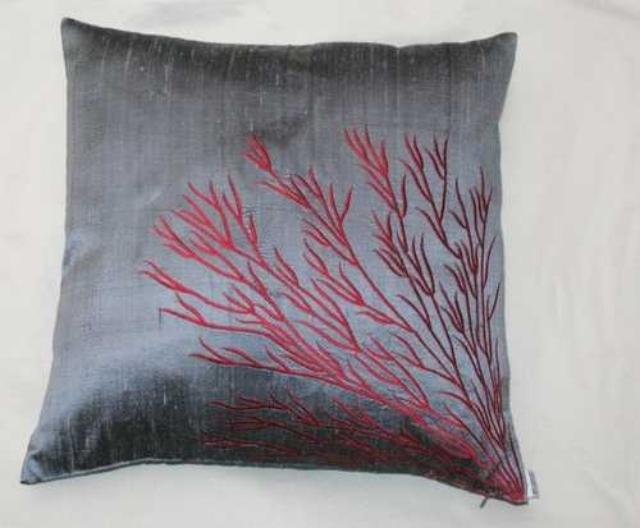pillow: (19, 16, 537, 506)
